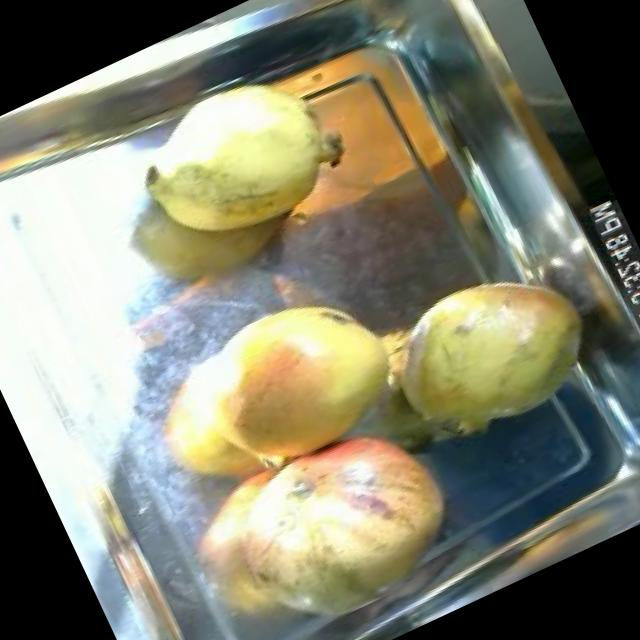fruit: (159, 257, 440, 506), (103, 37, 375, 284), (212, 388, 484, 635), (351, 232, 626, 474)
